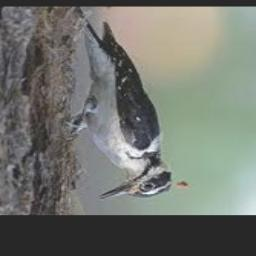Woodpecker: (66, 13, 189, 200)
